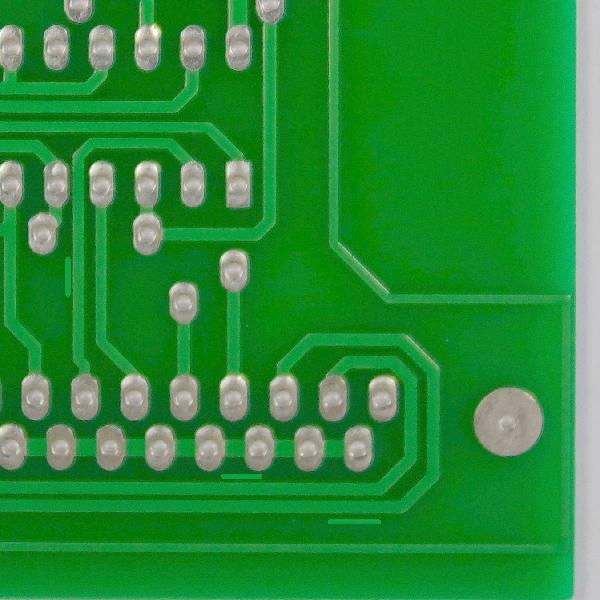spurious_copper: (325, 509, 386, 536), (216, 465, 266, 490), (57, 254, 76, 302)
